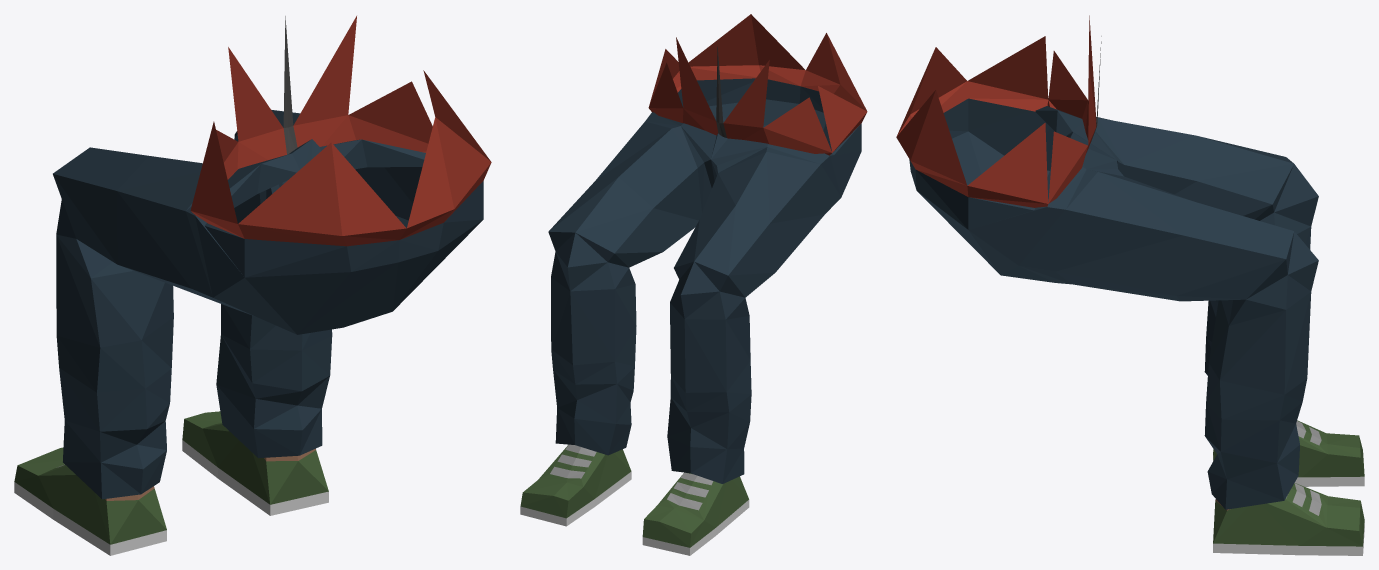
Rendered from Son_01_Legs_79_01_C.obj.
3 renders of one model, left to right at view 1: azimuth 30°, elevation 25°; view 2: azimuth 150°, elevation 25°; view 3: azimuth 270°, elevation 25°, orthographic. The views are drawn at different scales.
Parts seen in each view (by area): view 1: Son_01_Legs_79_01_C; view 2: Son_01_Legs_79_01_C; view 3: Son_01_Legs_79_01_C.
Part boxes in pixels (x1,y1,x2,y2): Son_01_Legs_79_01_C: (14, 16, 491, 555); Son_01_Legs_79_01_C: (520, 14, 867, 555); Son_01_Legs_79_01_C: (896, 15, 1364, 555).
Size of the model in its own units: 0.365 by 0.7748 by 0.6897.
1 material, 1 textured.
